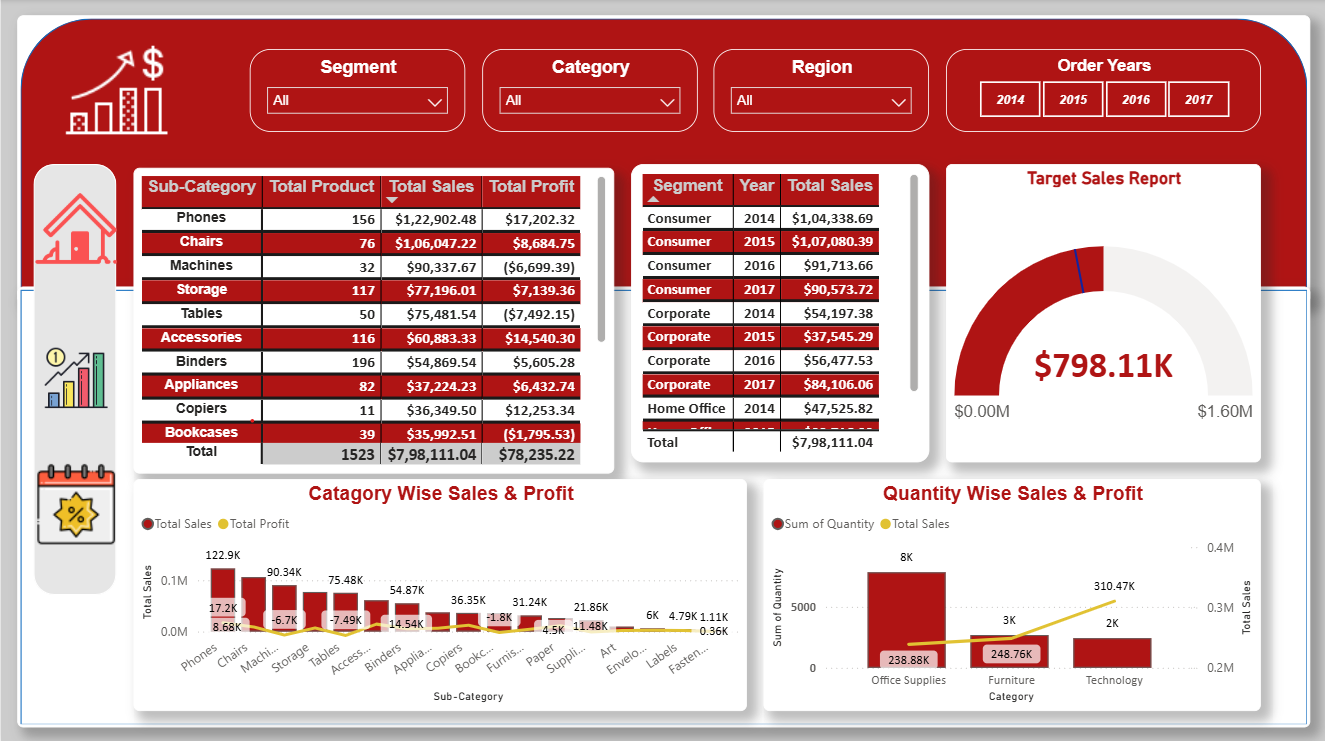

The dashboard page shown, as its layout file describes it:
{"tool":"powerbi","page":{"name":"Report-4","canvas":[1280,720],"ordinal":3},"visuals":[{"type":"group","id":"g1","title":"Group 1","box":[16,16,1248,688],"z":0},{"type":"shape","box":[16,16,1248,278.5],"z":0,"group":"g1"},{"type":"image","box":[32,176,80,80],"z":1000},{"type":"shape","box":[16,278.1,1248,425.9],"z":1000,"group":"g1"},{"type":"slicer","title":"Order Years","fields":{"Values":["Project 2 Data.Order Date.Variation.Date Hierarchy.Year"]},"box":[912,48,304,80],"z":2000},{"type":"slicer","title":"Region","fields":{"Values":["Project 2 Data.Region"]},"box":[688,48,208,80],"z":3000},{"type":"slicer","title":"Category","fields":{"Values":["Project 2 Data.Category"]},"box":[464,48,208,80],"z":4000},{"type":"pivotTable","fields":{"Rows":["Project 2 Data.Sub-Category"],"Values":["Project 2 Data.Total Product","Project 2 Data.Total Sales","Project 2 Data.Total Profit"]},"box":[128,163.4,464,294.9],"z":4500,"group":"g1"},{"type":"slicer","title":"Segment","fields":{"Values":["Project 2 Data.Segment"]},"box":[240,48,208,80],"z":5000},{"type":"tableEx","fields":{"Values":["Project 2 Data.Segment","Project 2 Data.Order Date.Variation.Date Hierarchy.Year","Project 2 Data.Total Sales"]},"box":[608,160,288,288],"z":5000,"group":"g1"},{"type":"gauge","title":"Target Sales Report","fields":{"Y":["Sum(Project 2 Data.Sales)"]},"box":[912,160,304,288],"z":5500,"group":"g1"},{"type":"image","box":[16,32,192,112],"z":6000},{"type":"image","box":[32,320,80,96],"z":7000},{"type":"lineStackedColumnComboChart","title":"Catagory Wise Sales & Profit","fields":{"Y2":["Project 2 Data.Total Profit"],"Category":["Project 2 Data.Sub-Category"],"Y":["Project 2 Data.Total Sales"]},"box":[128,464,592,224],"z":7503,"group":"g1"},{"type":"image","box":[32,448,80,80],"z":8000},{"type":"lineClusteredColumnComboChart","title":"Quantity Wise Sales & Profit","fields":{"Category":["Project 2 Data.Category"],"Y":["Sum(Project 2 Data.Quantity)"],"Y2":["Project 2 Data.Total Sales"]},"box":[736,464,480,224],"z":8003,"group":"g1"},{"type":"shape","box":[32,160,80,416],"z":8503,"group":"g1"}]}

Visuals, with their boxes in screenshot pixels (x1, y1, x2, y2), scaled from the page's 1280x720 canvas onto the 1325x741 screenshot:
"Group 1" group: {"left": 17, "top": 16, "right": 1308, "bottom": 725}
shape: {"left": 17, "top": 16, "right": 1308, "bottom": 303}
image: {"left": 33, "top": 181, "right": 116, "bottom": 263}
shape: {"left": 17, "top": 286, "right": 1308, "bottom": 725}
"Order Years" slicer: {"left": 944, "top": 49, "right": 1259, "bottom": 132}
"Region" slicer: {"left": 712, "top": 49, "right": 928, "bottom": 132}
"Category" slicer: {"left": 480, "top": 49, "right": 696, "bottom": 132}
pivotTable - Project 2 Data.Sub-Category x Project 2 Data.Total Product: {"left": 132, "top": 168, "right": 613, "bottom": 472}
"Segment" slicer: {"left": 248, "top": 49, "right": 464, "bottom": 132}
tableEx - Project 2 Data.Segment x Project 2 Data.Order Date.Variation.Date Hierarchy.Year: {"left": 629, "top": 165, "right": 928, "bottom": 461}
"Target Sales Report" gauge: {"left": 944, "top": 165, "right": 1259, "bottom": 461}
image: {"left": 17, "top": 33, "right": 215, "bottom": 148}
image: {"left": 33, "top": 329, "right": 116, "bottom": 428}
"Catagory Wise Sales & Profit" lineStackedColumnComboChart: {"left": 132, "top": 478, "right": 745, "bottom": 708}
image: {"left": 33, "top": 461, "right": 116, "bottom": 543}
"Quantity Wise Sales & Profit" lineClusteredColumnComboChart: {"left": 762, "top": 478, "right": 1259, "bottom": 708}
shape: {"left": 33, "top": 165, "right": 116, "bottom": 593}
